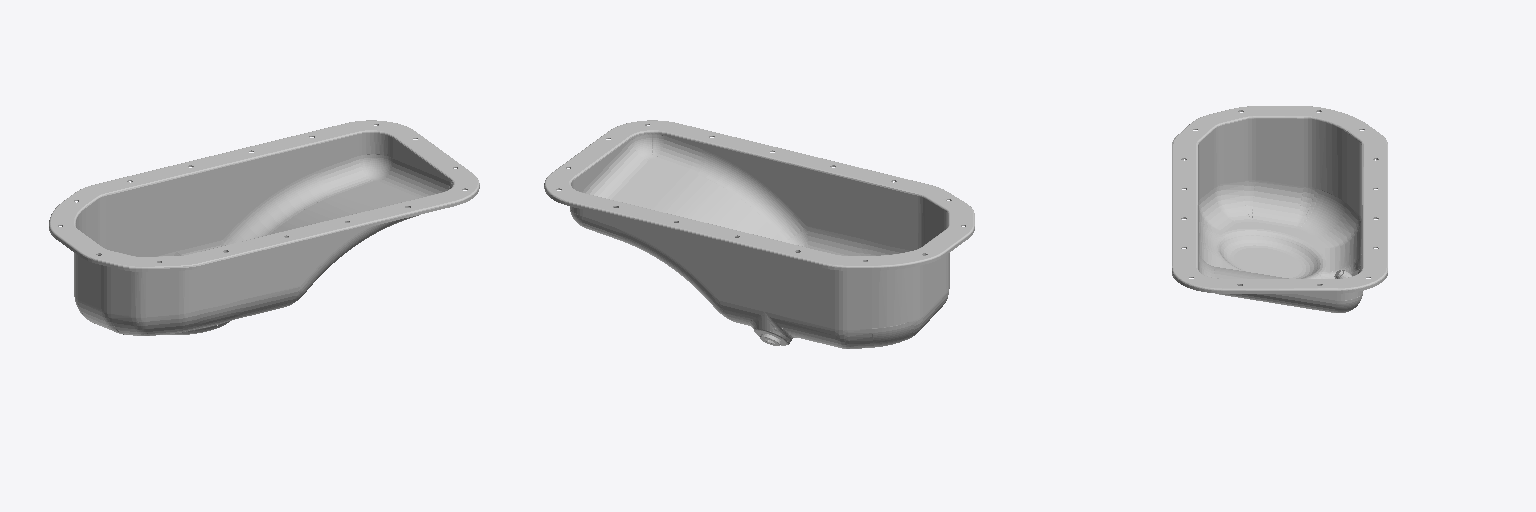
The model's file is Картер масляный с пробкой в сборе.obj.
3 renders of one model, left to right at view 1: azimuth 30°, elevation 25°; view 2: azimuth 150°, elevation 25°; view 3: azimuth 270°, elevation 25°, orthographic.
Parts seen in each view (by area): view 1: Картер_масляный_с_пробкой_в_сборе; view 2: Картер_масляный_с_пробкой_в_сборе; view 3: Картер_масляный_с_пробкой_в_сборе.
Part boxes in pixels (bbox=[...]): Картер_масляный_с_пробкой_в_сборе: bbox=[49, 120, 479, 335]; Картер_масляный_с_пробкой_в_сборе: bbox=[544, 120, 974, 348]; Картер_масляный_с_пробкой_в_сборе: bbox=[1172, 106, 1387, 312].
Bounding box in the file's own units: 447 × 133 × 223.